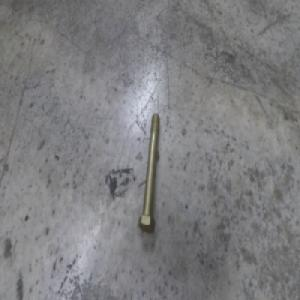Bolt: (136, 112, 157, 233)
